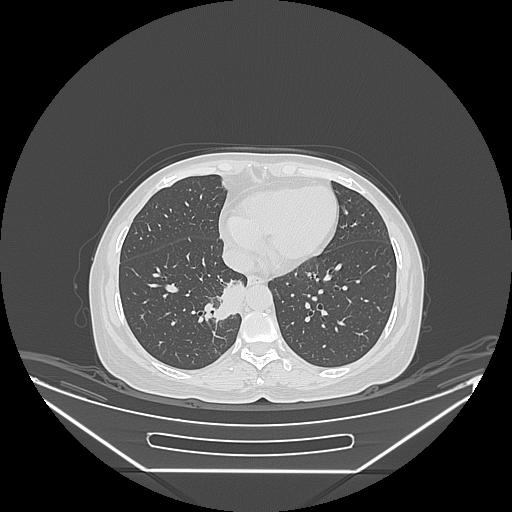nodule: (223, 278, 245, 300)
